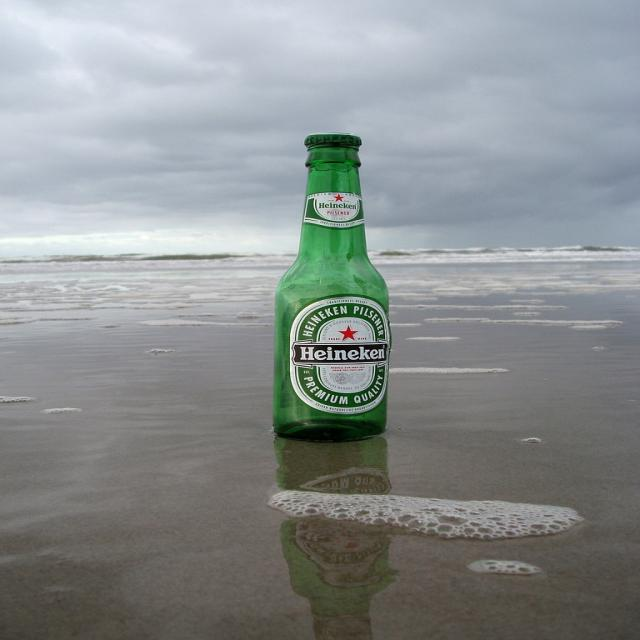heineken: (289, 295, 391, 416)
